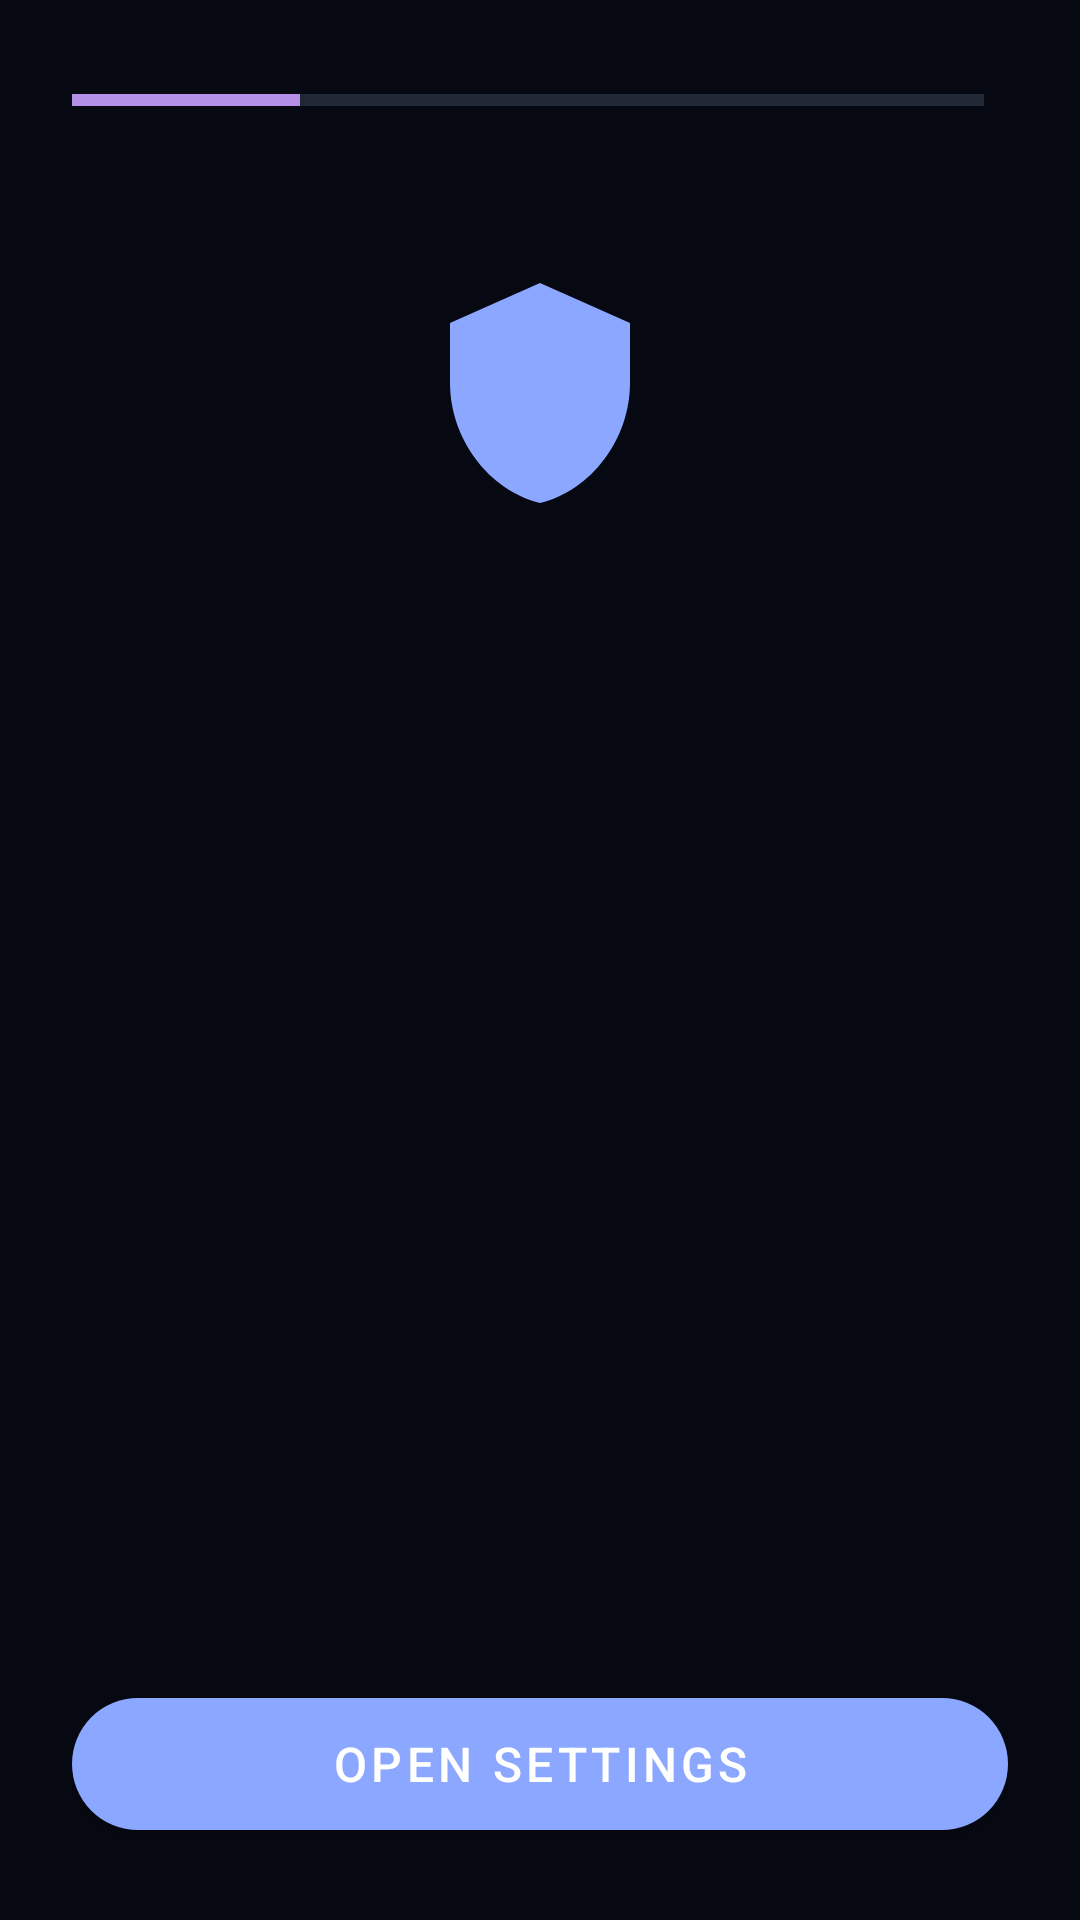

Where to tap for icons on this 1080px×1920px app screen, as (x=x, y=y):
shield: (x=540, y=393)
